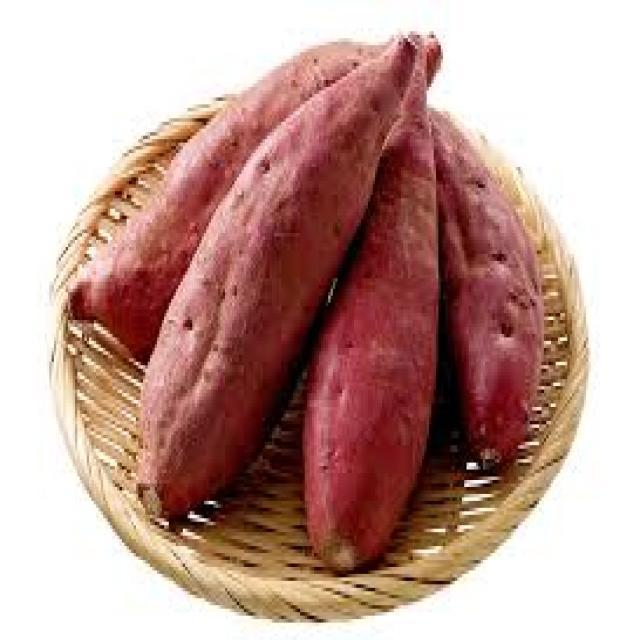Sweet Potato: (132, 28, 418, 521), (66, 31, 409, 370), (300, 36, 444, 578), (412, 97, 552, 474)
